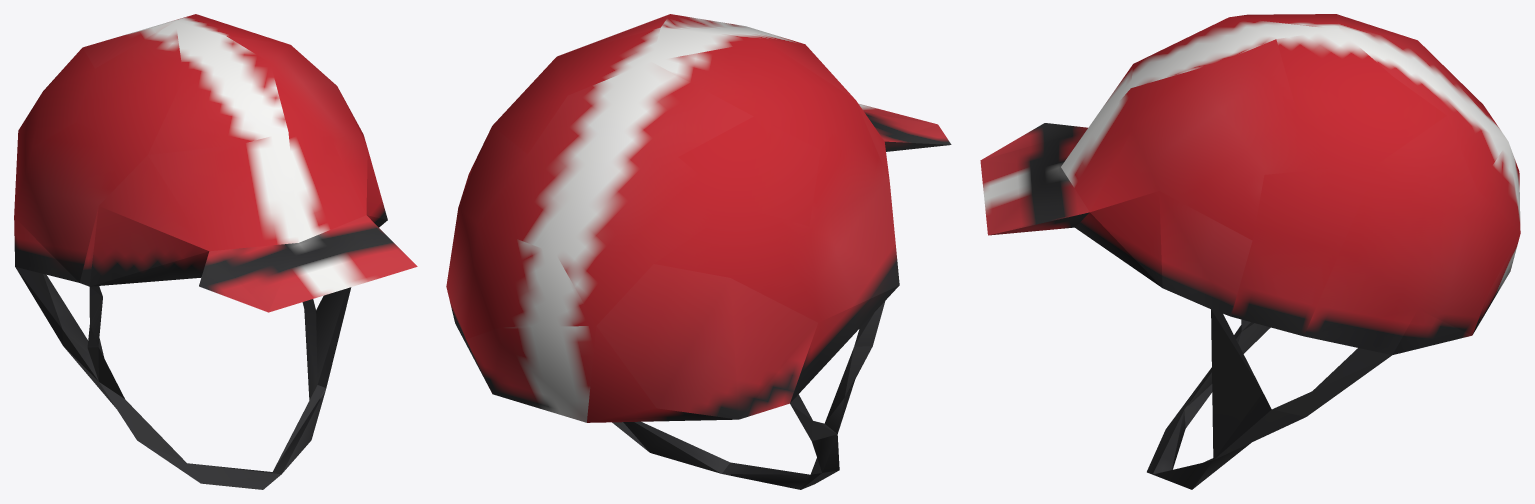
The model's file is mu_bao_hiem_edits.far.glb.
The picture shows the model from 3 angles, left to right: view 1: azimuth 30°, elevation 25°; view 2: azimuth 150°, elevation 25°; view 3: azimuth 270°, elevation 25°; orthographic projection. The views are drawn at different scales.
Parts seen in each view (by area): view 1: mu_bao_hiem_edits; view 2: mu_bao_hiem_edits; view 3: mu_bao_hiem_edits.
Part boxes in pixels (x1,y1,x2,y2): mu_bao_hiem_edits: [14, 14, 417, 489]; mu_bao_hiem_edits: [446, 14, 951, 489]; mu_bao_hiem_edits: [980, 14, 1520, 489].
Size of the model in its own units: 0.2075 by 0.2658 by 0.2925.
Materials: 1 (1 with a texture image).
